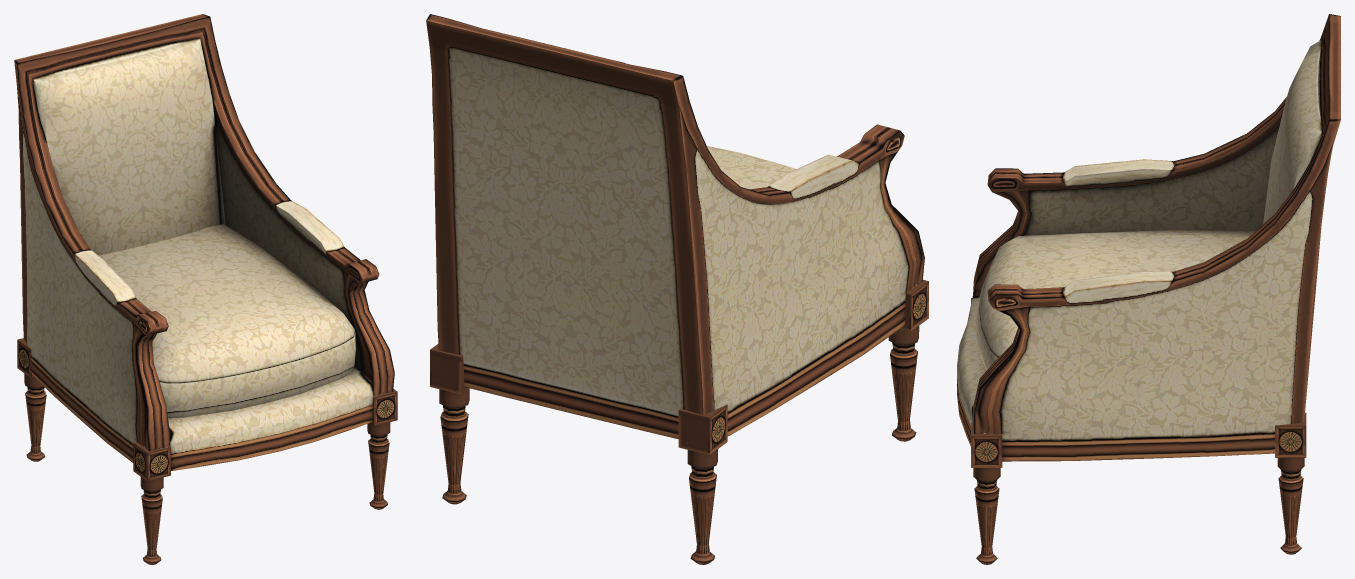
File: Chair03.FBX
3 renders of one model, left to right at view 1: azimuth 30°, elevation 25°; view 2: azimuth 150°, elevation 25°; view 3: azimuth 270°, elevation 25°, orthographic. The views are drawn at different scales.
Visible parts, largest first — view 1: Chair03; view 2: Chair03; view 3: Chair03.
Boxes of the visible parts, <box> form: Chair03: <box>14,14,397,564</box>; Chair03: <box>426,14,928,564</box>; Chair03: <box>957,14,1340,564</box>.
Bounding box in the file's own units: 86.66 × 102 × 127.
